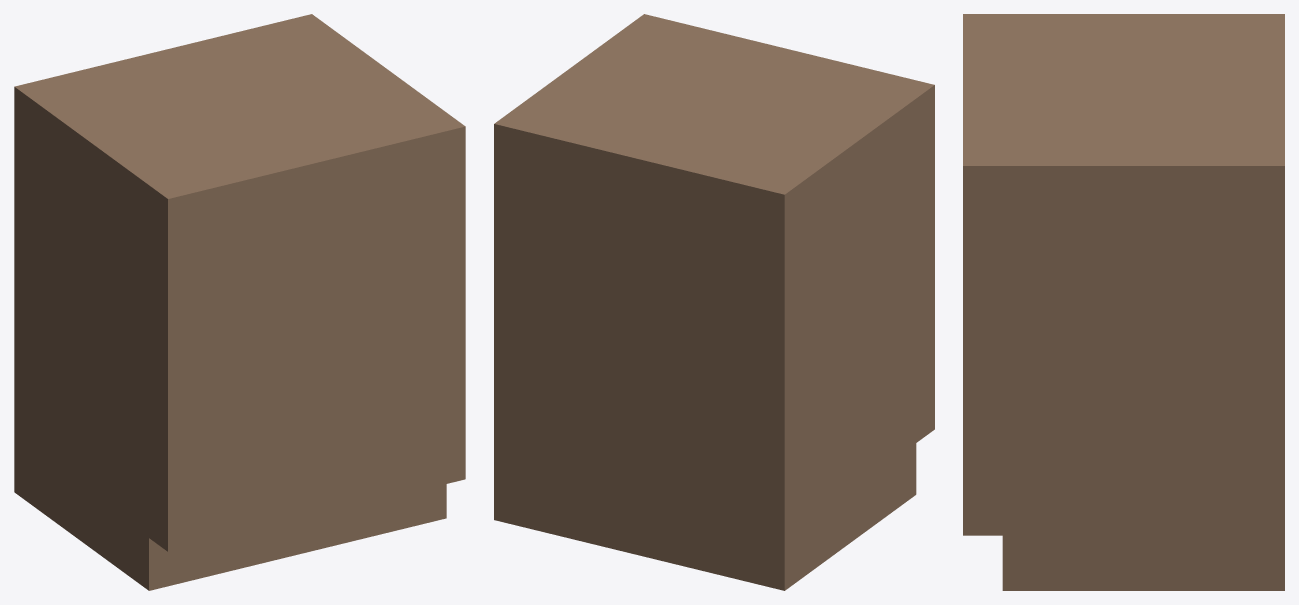
Rendered from base_cabinet_03.obj.
3 views of the same model, side by side, from view 1: azimuth 30°, elevation 25°; view 2: azimuth 150°, elevation 25°; view 3: azimuth 270°, elevation 25° (orthographic). The views are drawn at different scales.
Visible parts, largest first — view 1: base_cabinet_03; view 2: base_cabinet_03; view 3: base_cabinet_03.
Part boxes in pixels (<box>): base_cabinet_03: <box>14,14,465,590</box>; base_cabinet_03: <box>494,14,934,590</box>; base_cabinet_03: <box>963,14,1284,590</box>.
Size of the model in its own units: 692 by 902 by 619.
